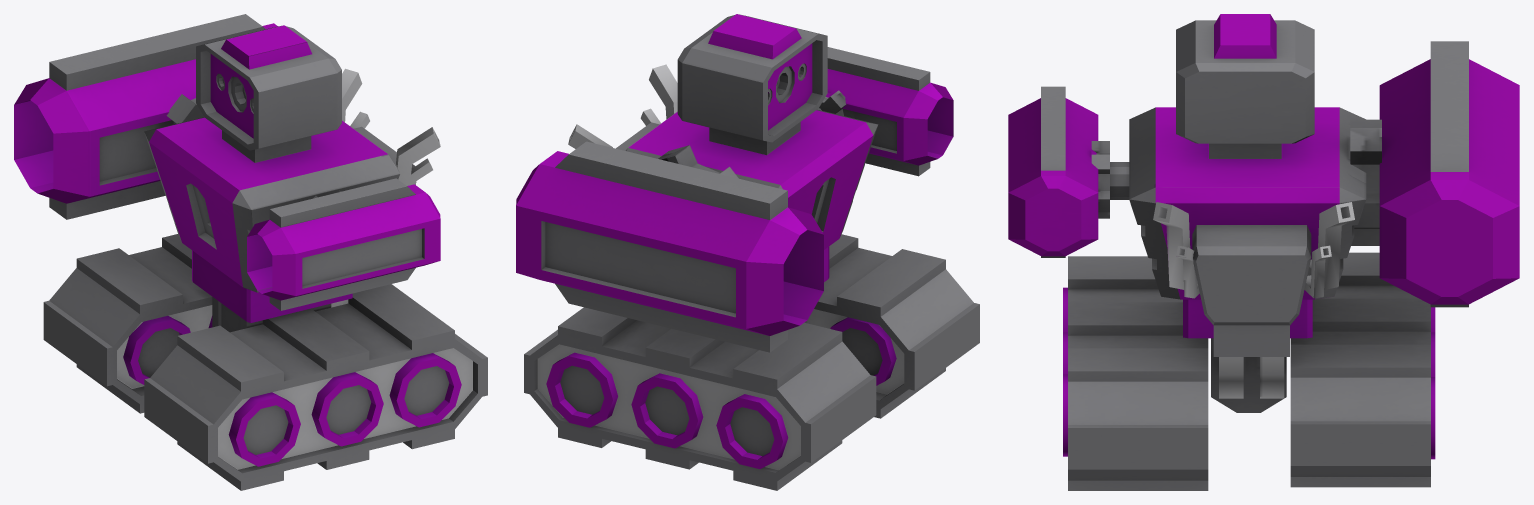
The model's file is Enemy2_Move2.obj.
The picture shows the model from 3 angles, left to right: view 1: azimuth 30°, elevation 25°; view 2: azimuth 150°, elevation 25°; view 3: azimuth 270°, elevation 25°; orthographic projection. The views are drawn at different scales.
Parts seen in each view (by area): view 1: Object006, Object007, Object010, Object009; view 2: Object006, Object007, Object010, Object009; view 3: Object006, Object007, Object010, Object009, Object008.
Part boxes in pixels (bbox=[...]): Object006: bbox=[14, 14, 487, 490]; Object007: bbox=[144, 25, 399, 332]; Object010: bbox=[331, 68, 440, 307]; Object009: bbox=[166, 94, 203, 123]; Object006: bbox=[516, 47, 979, 490]; Object007: bbox=[626, 14, 878, 323]; Object010: bbox=[568, 64, 677, 150]; Object009: bbox=[658, 145, 738, 178]; Object006: bbox=[1008, 41, 1519, 490]; Object007: bbox=[1129, 14, 1366, 412]; Object010: bbox=[1153, 202, 1354, 398]; Object009: bbox=[1350, 119, 1381, 245]; Object008: bbox=[1091, 141, 1129, 218].
Bounding box in the file's own units: 87.45 × 109 × 125.
